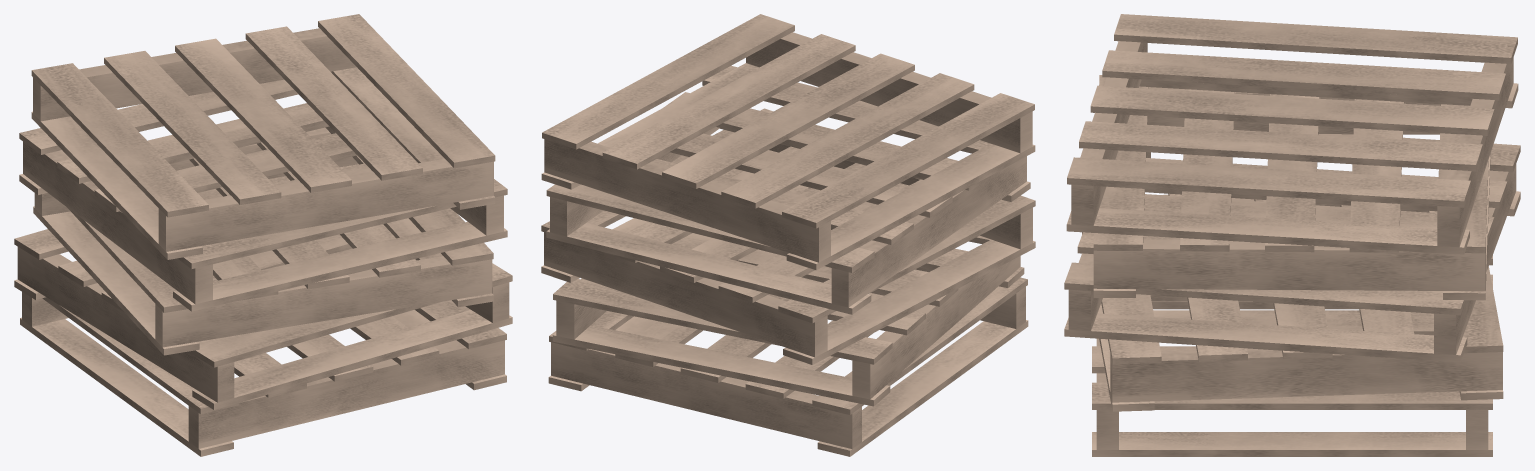
The model's file is PalletsStack.fbx.
The picture shows the model from 3 angles, left to right: view 1: azimuth 30°, elevation 25°; view 2: azimuth 150°, elevation 25°; view 3: azimuth 270°, elevation 25°; orthographic projection. The views are drawn at different scales.
Parts seen in each view (by area): view 1: Pallets; view 2: Pallets; view 3: Pallets.
Boxes of the visible parts, <box> form: Pallets: <box>14,14,512,456</box>; Pallets: <box>541,14,1035,456</box>; Pallets: <box>1064,14,1520,456</box>.
Bounding box in the file's own units: 229 × 150 × 233.
